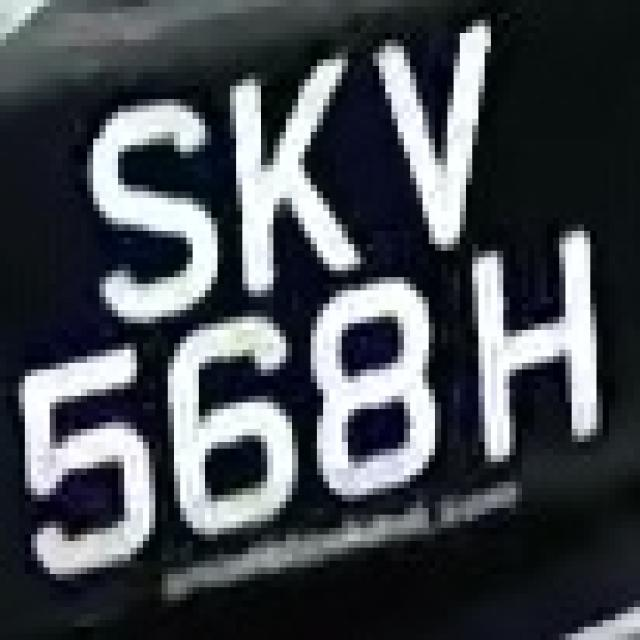5: (12, 350, 168, 600)
6: (162, 310, 310, 528)
8: (298, 277, 435, 495)
H: (466, 238, 615, 475)
K: (205, 59, 360, 297)
S: (68, 79, 218, 323)
V: (373, 20, 516, 257)
